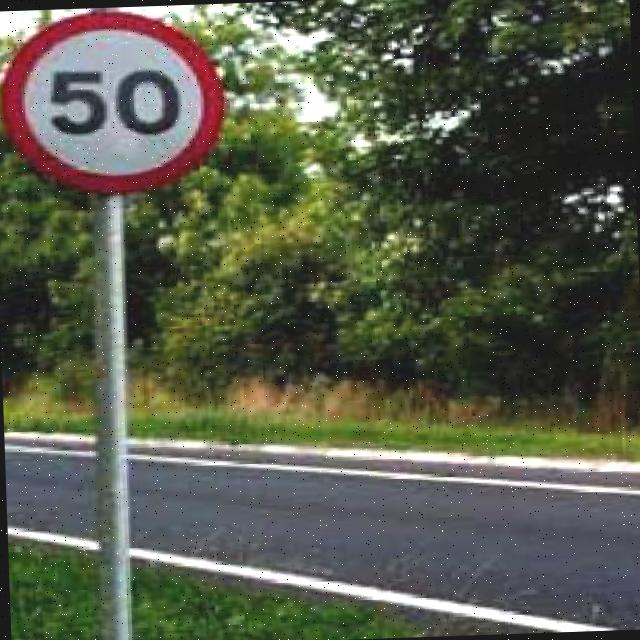Ograniczenie predkosci do 50: (8, 13, 220, 196)
